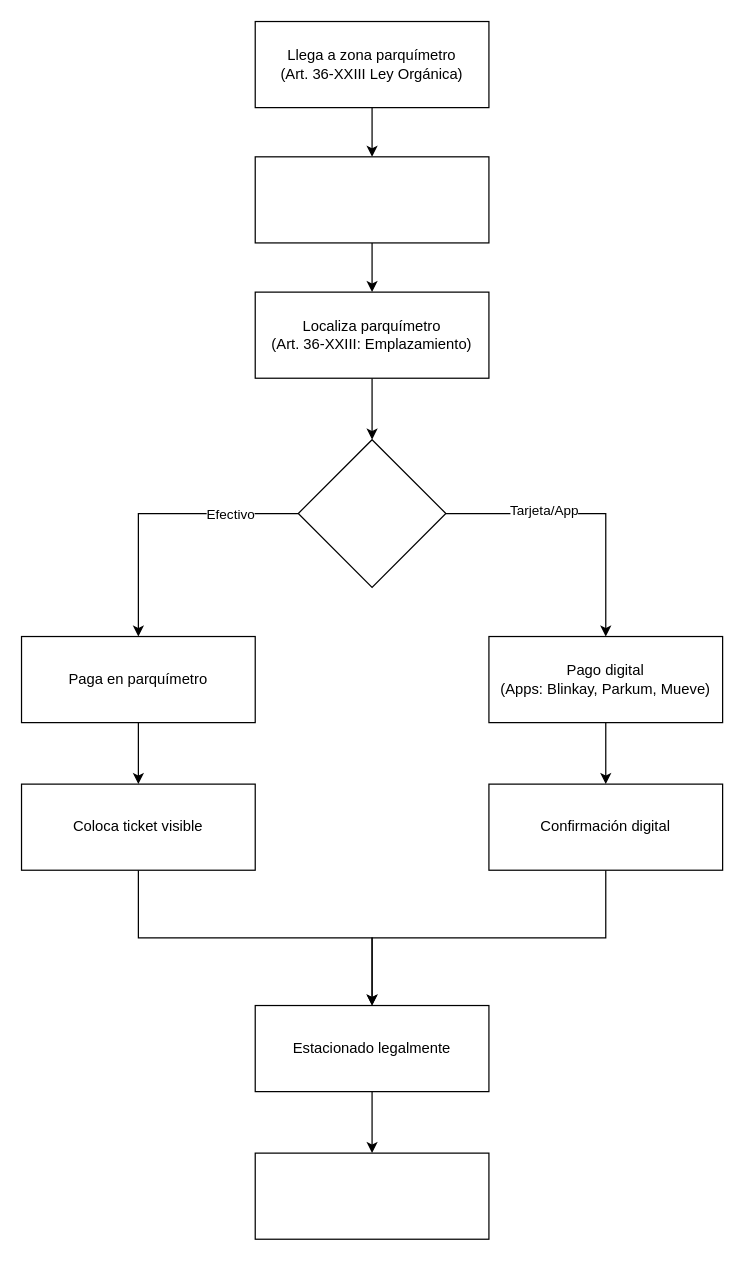
Some shapes in this 744 by 1261 pixel diagram are drawn without their labels. The centre of each missing label's shape, as x and y in pixels:
Busca cajón de estacionamiento marcado: [371,199]
Método de pago: [371,512]
Retira antes de vencer: [371,1195]
